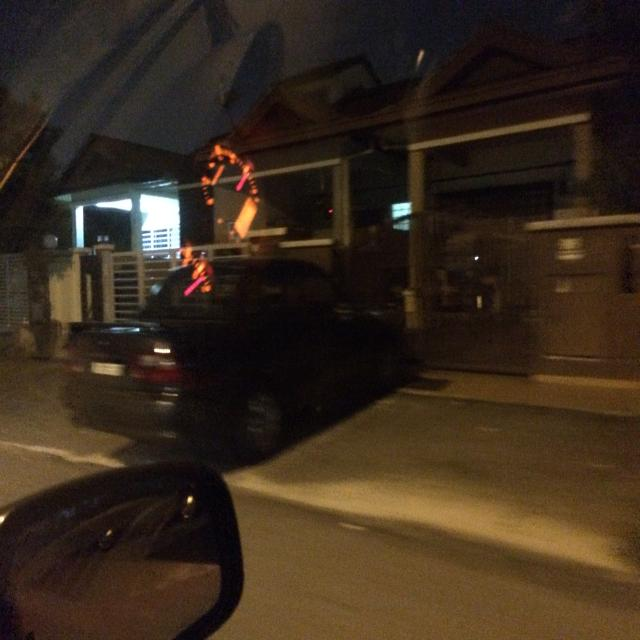Car: (65, 251, 402, 453)
